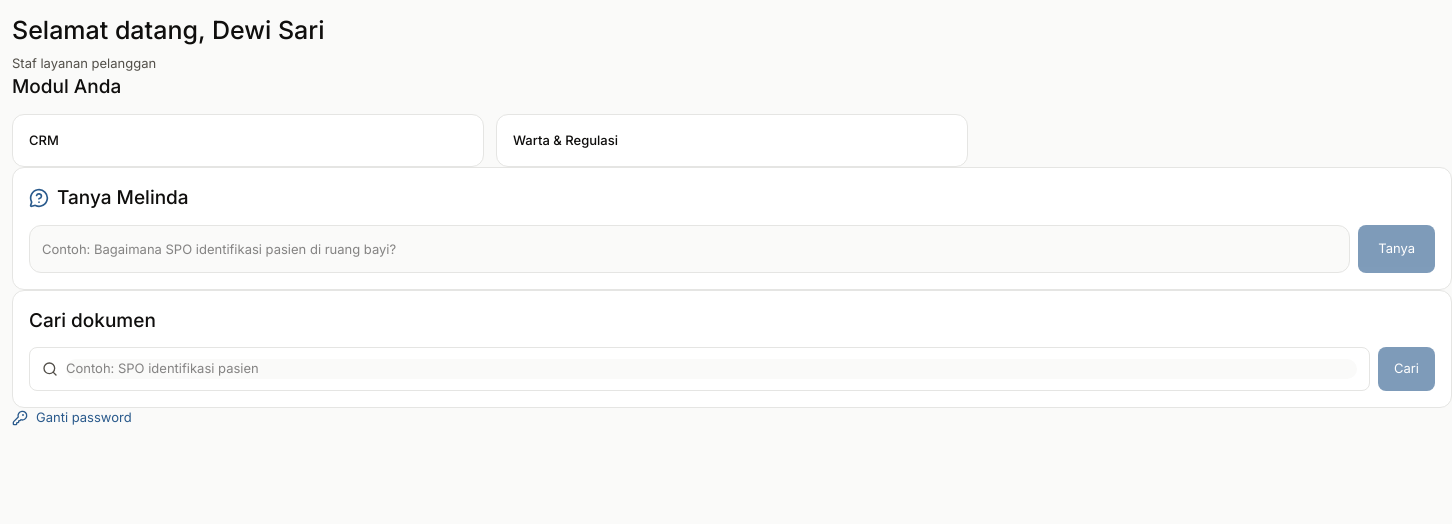
it: staff workspace › offers Tanya Melinda and a document search that lists results
Expected: the heading "Tanya Melinda" is shown, [29, 186, 189, 209]
Type "cuci tangan" into the field named "Kata kunci dokumen".
click(712, 369); type("cuci tangan")  # box [66, 359, 1357, 379]
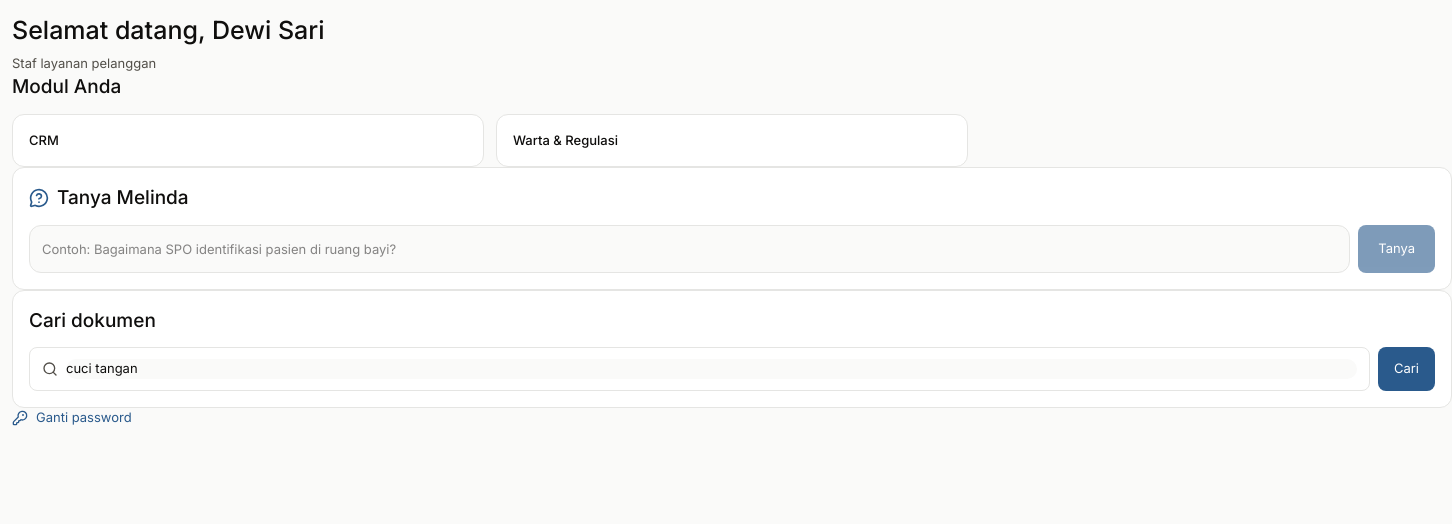
Submit the form named "Kata kunci dokumen", box [29, 347, 1435, 391]
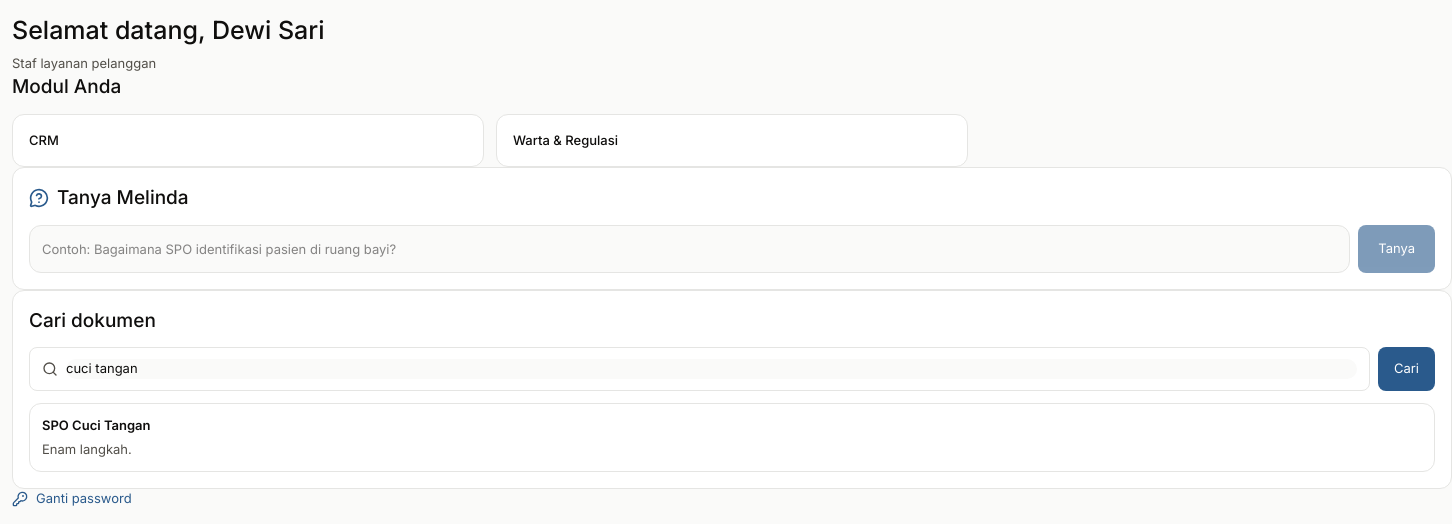
Now the text "SPO Cuci Tangan" is shown, box [42, 417, 150, 433]
